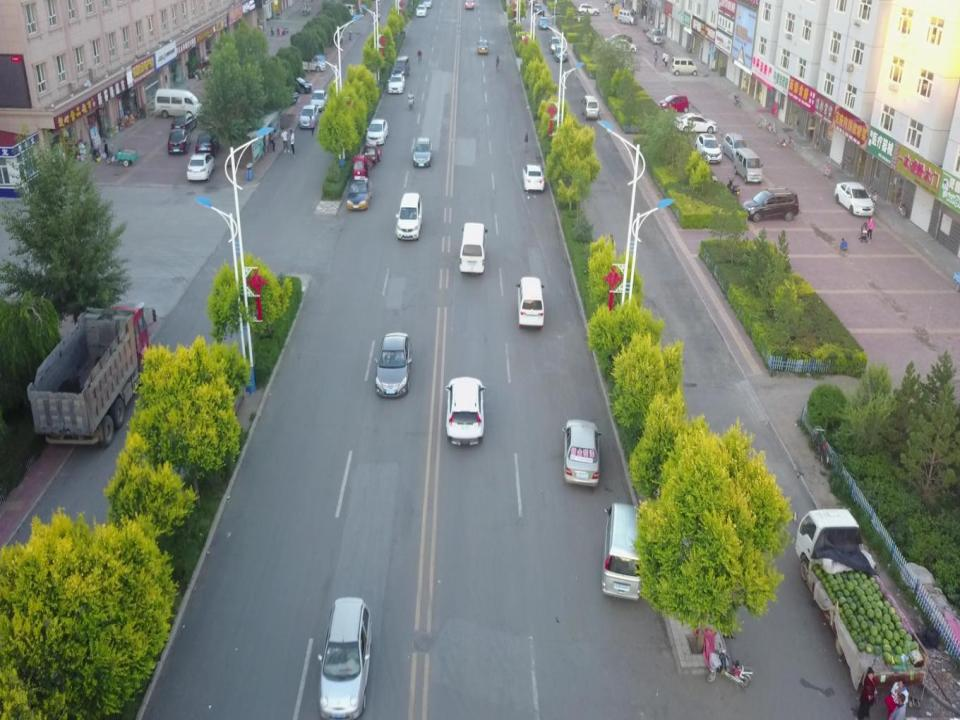car: (445, 376, 485, 448), (562, 417, 602, 488), (375, 332, 412, 398), (744, 187, 798, 222), (834, 182, 875, 218), (674, 113, 717, 135), (346, 176, 372, 212), (187, 152, 215, 182), (696, 132, 722, 164), (723, 132, 748, 164), (195, 131, 219, 159), (287, 55, 326, 72), (277, 75, 313, 93), (522, 164, 545, 192), (365, 118, 387, 146), (269, 84, 298, 104), (168, 129, 191, 154), (658, 94, 688, 113), (170, 114, 198, 134), (412, 138, 432, 166), (299, 105, 319, 129), (310, 89, 327, 111), (387, 74, 405, 94), (610, 40, 638, 52), (603, 35, 632, 46), (578, 3, 600, 15), (548, 36, 562, 54), (554, 46, 568, 62), (477, 40, 488, 54), (415, 5, 426, 17), (539, 17, 549, 29), (465, 0, 474, 9), (534, 4, 542, 14), (422, 0, 432, 8)
truck: (790, 505, 926, 692), (27, 296, 155, 450), (361, 142, 382, 163), (646, 28, 663, 44)
van: (318, 595, 371, 716), (600, 504, 652, 602), (516, 275, 546, 328), (154, 87, 202, 120), (459, 222, 488, 276), (395, 191, 423, 241), (733, 147, 762, 183), (671, 56, 698, 77), (581, 96, 599, 120), (392, 57, 409, 77), (617, 10, 637, 24), (339, 5, 356, 16)
